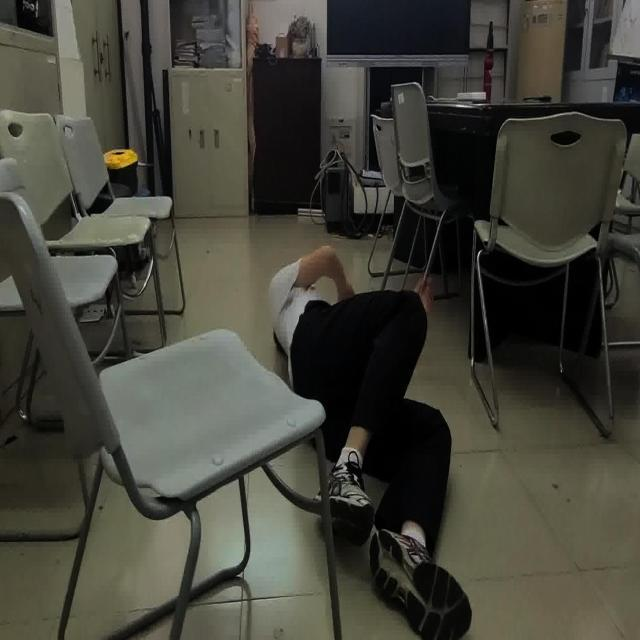fall: (266, 243, 471, 640)
